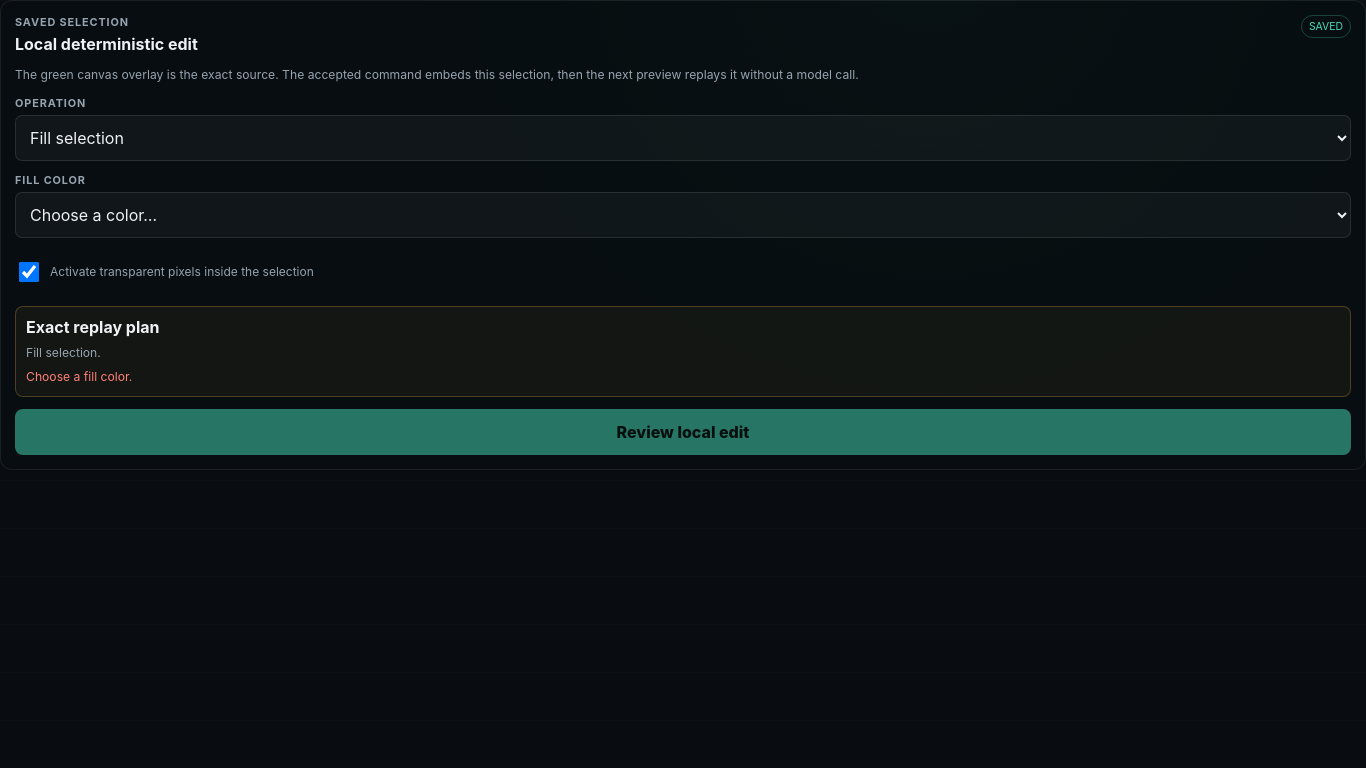
Test: LocalEditsPanel › exposes physical thickening and explicit overwrite colors
Select "Thicken feature" in the dropdown labelled "Operation" at (683, 138), box [15, 115, 1351, 161]
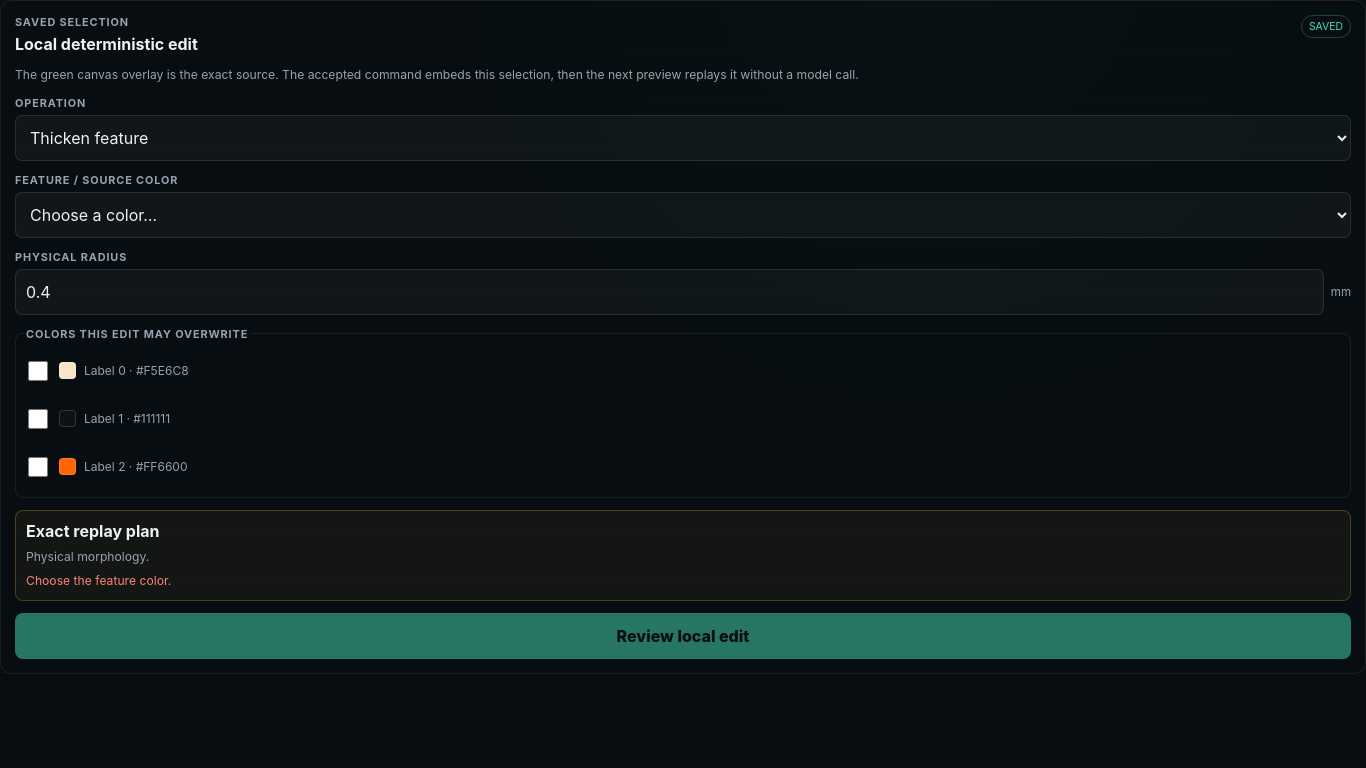
Select "Label 1 · #111111" in the dropdown labelled "Feature / source color" at (683, 215), box [15, 192, 1351, 238]
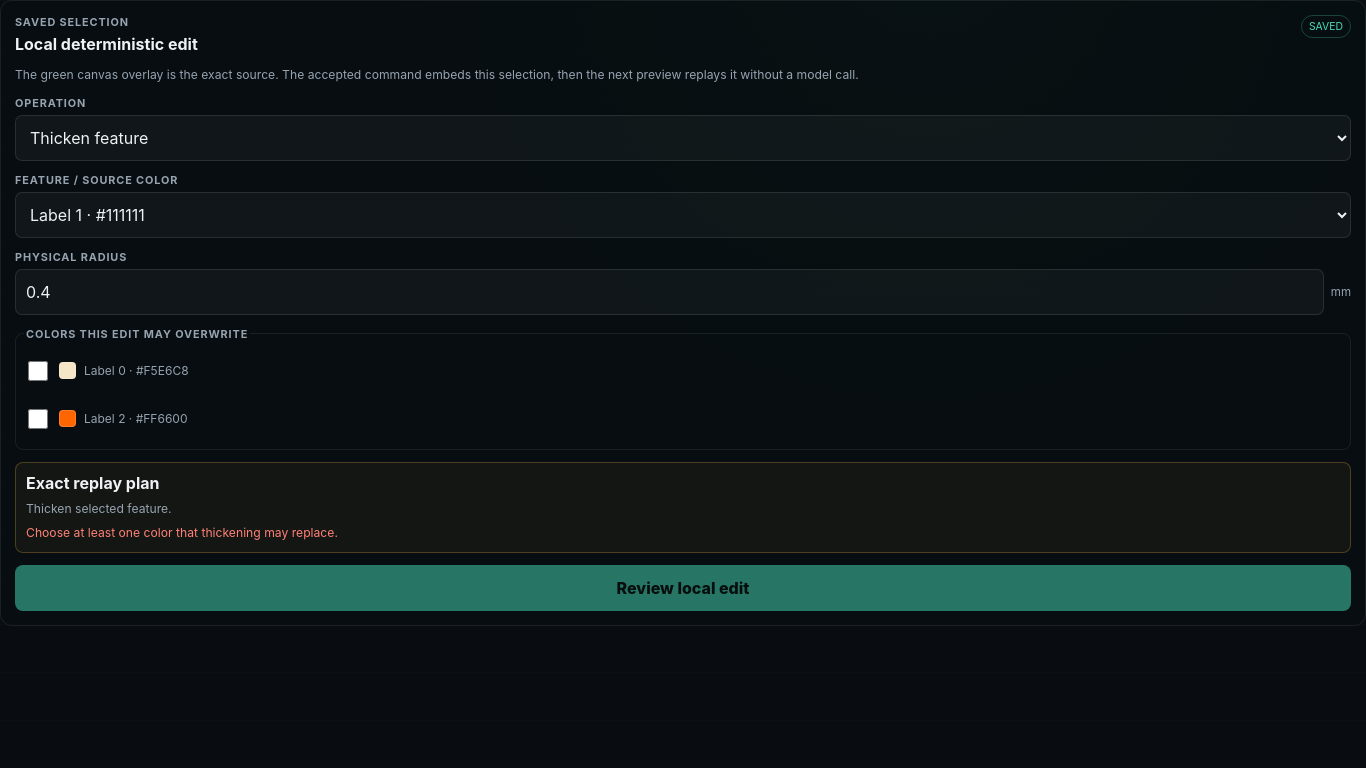
Expected: the button "Review local edit" is disabled, [15, 565, 1351, 611]
Click the checkbox labelled "Label 0 · #F5E6C8" at (38, 371), box [28, 361, 48, 381]
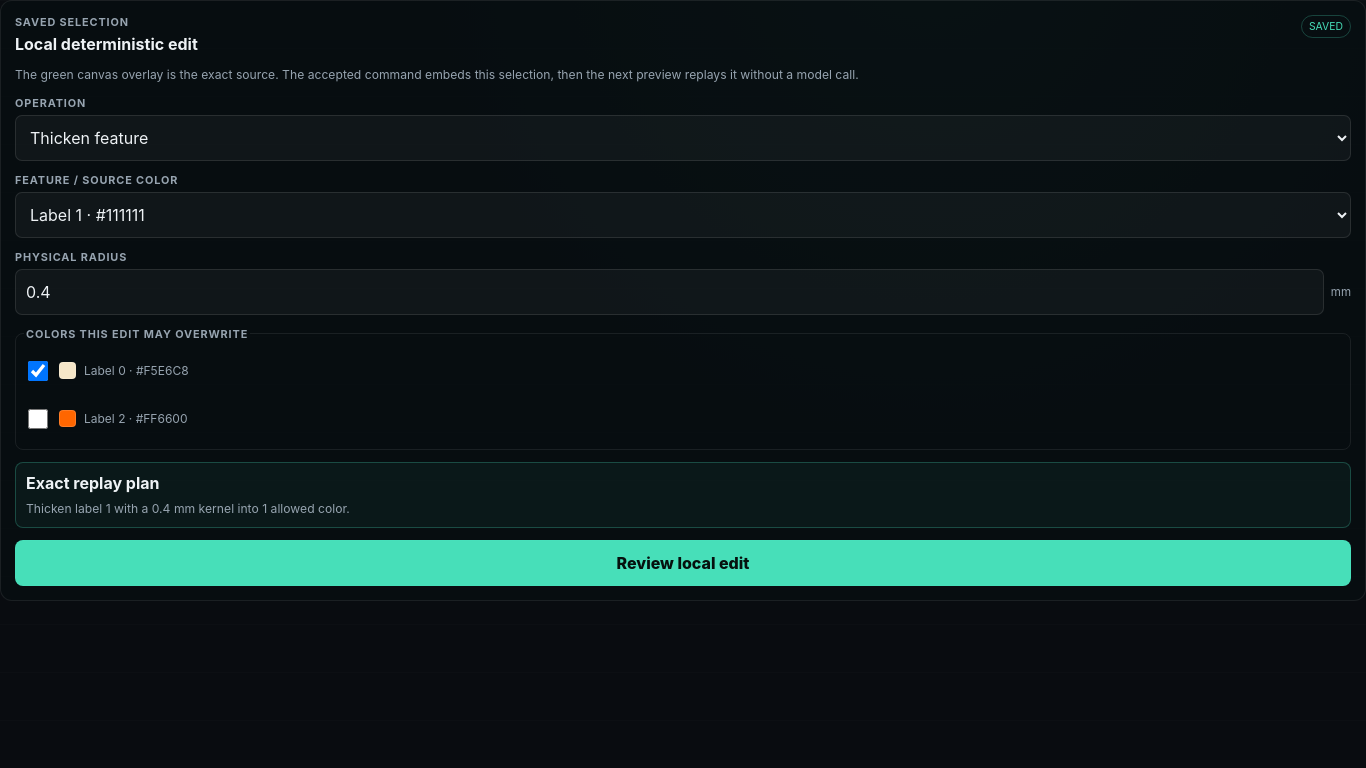
Result: the text "Thicken label 1 with a 0.4 mm kernel into 1 allowed color." is shown at [26, 501, 350, 516]
Result: the button "Review local edit" is enabled at [15, 540, 1351, 586]
